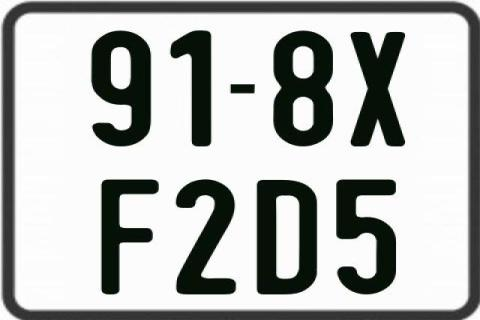0: (272, 29, 333, 150), (92, 29, 154, 145), (335, 177, 397, 292), (174, 180, 234, 296), (169, 31, 210, 149)
D: (255, 180, 320, 298)
F: (102, 178, 164, 298)
X: (347, 31, 403, 149)
